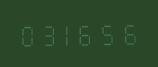five: (98, 19, 117, 46)
one: (58, 20, 77, 47)
six: (78, 20, 97, 46), (118, 19, 137, 45)
three: (37, 20, 56, 47)
zero: (17, 21, 36, 47)
